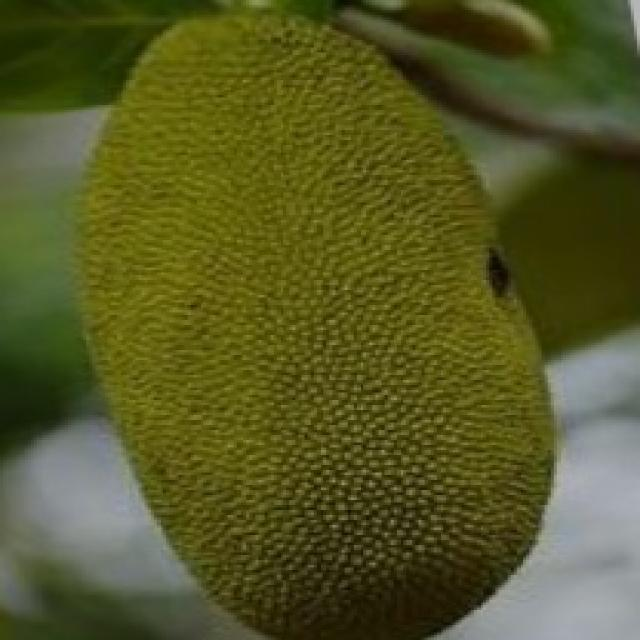Fruit: (298, 245, 597, 640)
